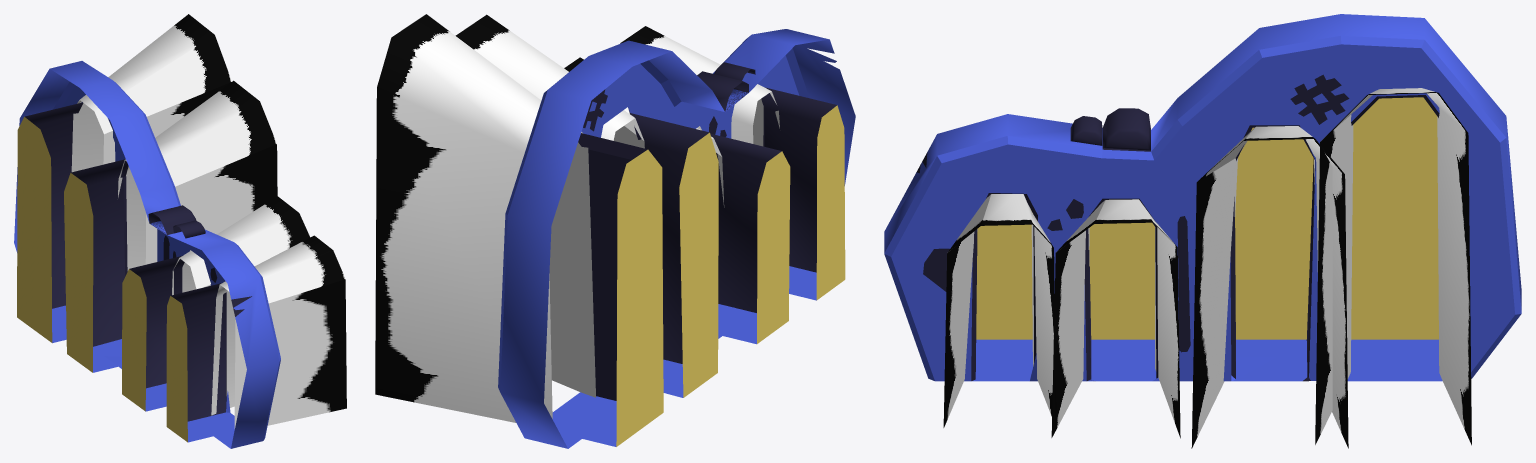
File: RockLAMP.fbx
3 views of the same model, side by side, from view 1: azimuth 30°, elevation 25°; view 2: azimuth 150°, elevation 25°; view 3: azimuth 270°, elevation 25° (orthographic). The views are drawn at different scales.
Visible parts, largest first — view 1: Плоскость, Плоскость.004, Плоскость.002, Плоскость.001, Плоскость.003; view 2: Плоскость, Плоскость.001, Плоскость.002, Плоскость.004; view 3: Плоскость, Плоскость.001, Плоскость.002, Плоскость.003, Плоскость.004.
Part boxes in pixels (x1,y1,x2,y2): Плоскость: (14, 61, 280, 448); Плоскость.004: (211, 235, 346, 428); Плоскость.002: (118, 80, 277, 270); Плоскость.001: (71, 14, 231, 172); Плоскость.003: (172, 196, 310, 295); Плоскость: (498, 29, 855, 448); Плоскость.001: (375, 14, 595, 422); Плоскость.002: (455, 14, 644, 148); Плоскость.004: (620, 26, 779, 146); Плоскость: (884, 14, 1521, 381); Плоскость.001: (1315, 88, 1471, 445); Плоскость.002: (1191, 126, 1348, 448); Плоскость.003: (1051, 199, 1180, 438); Плоскость.004: (943, 194, 1056, 428).
Bounding box in the file's own units: 199 × 297 × 472.
